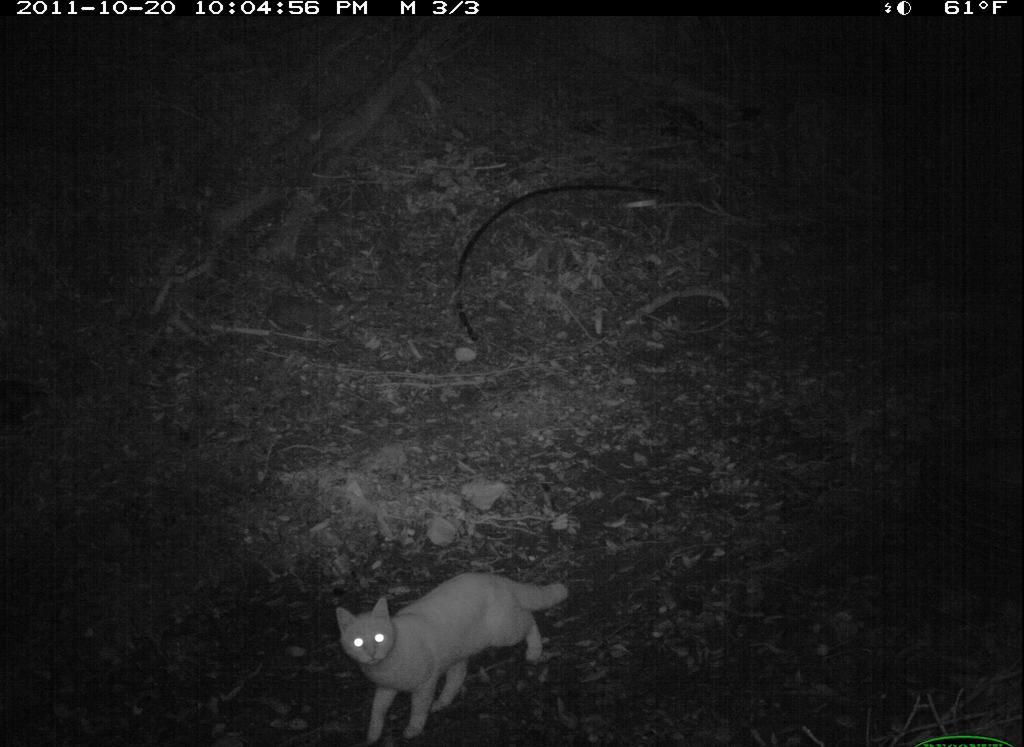cat: (331, 568, 605, 744)
